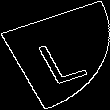L_NW: (23, 25, 87, 85)
